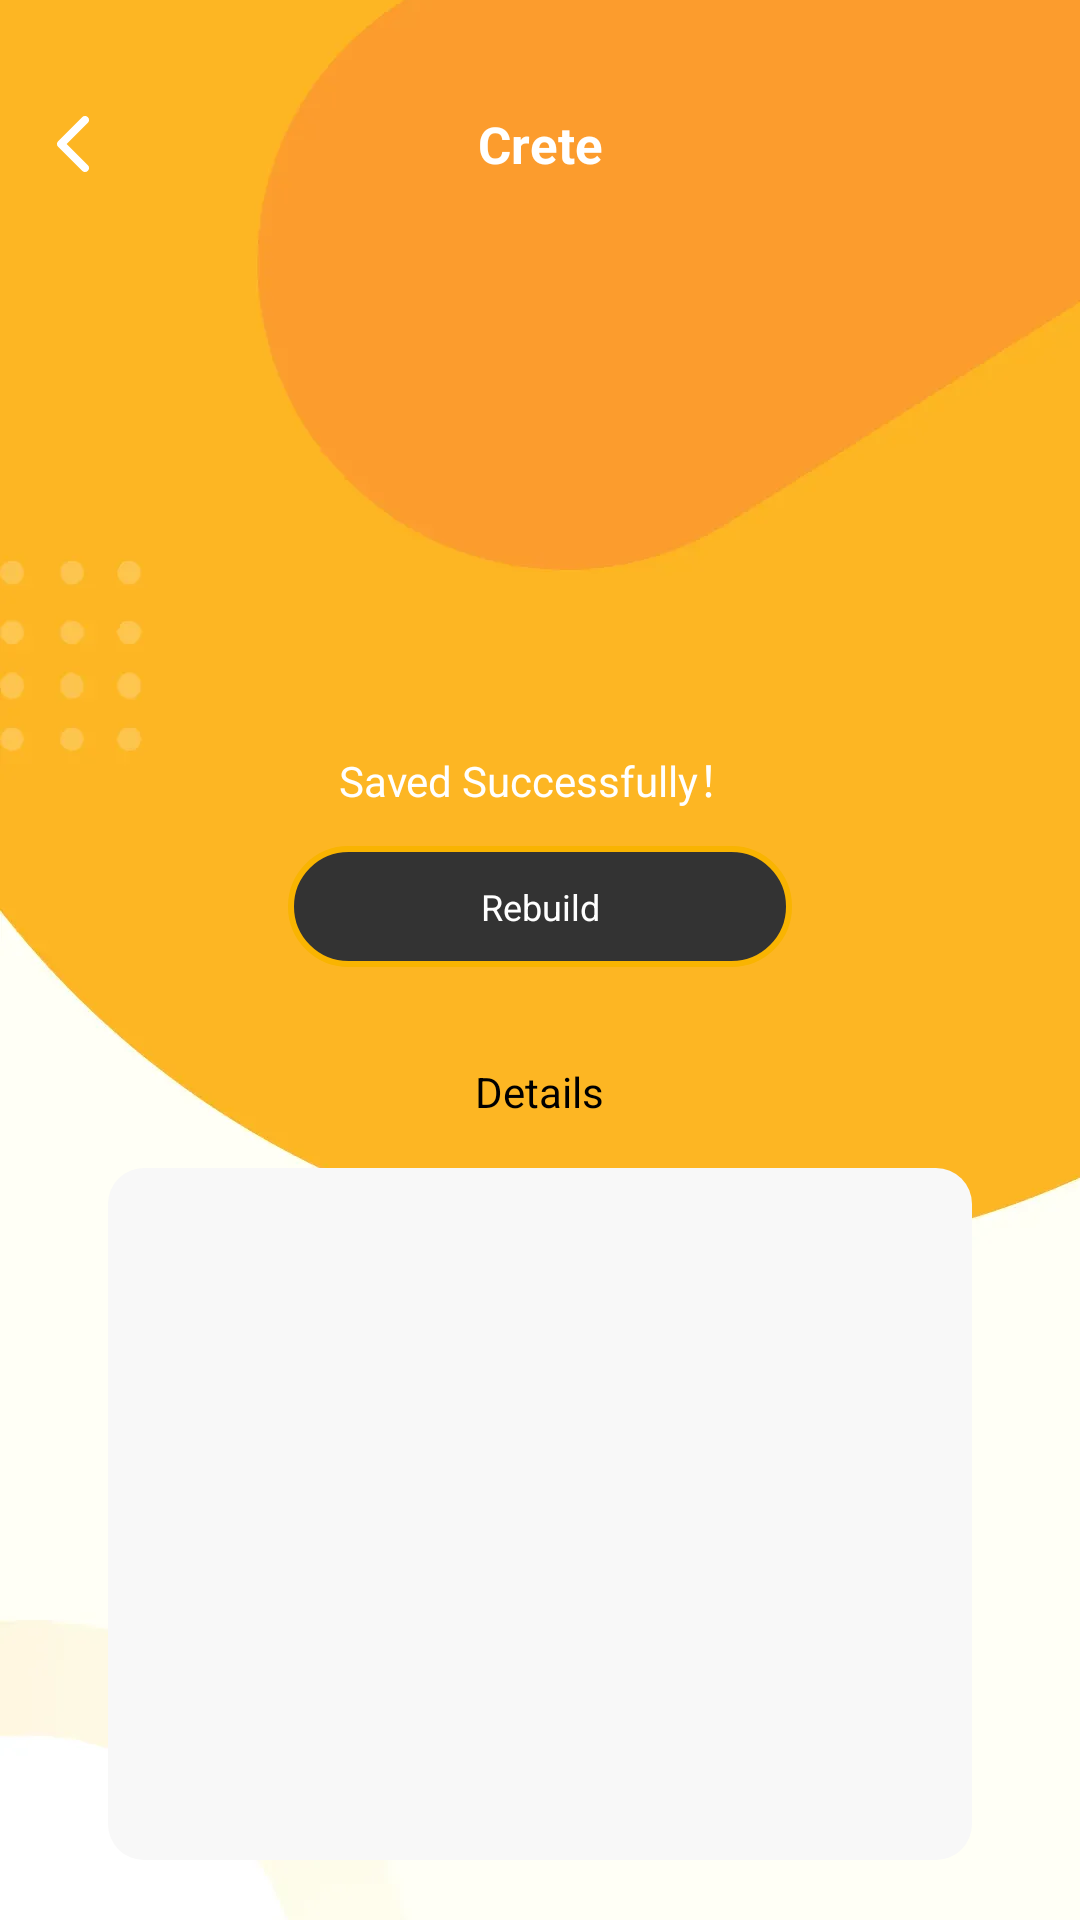

Screen size 1080*1920. Icon name, then its box in pixels as (x1, y1, x2, y2):
back: (57, 116, 89, 172)
